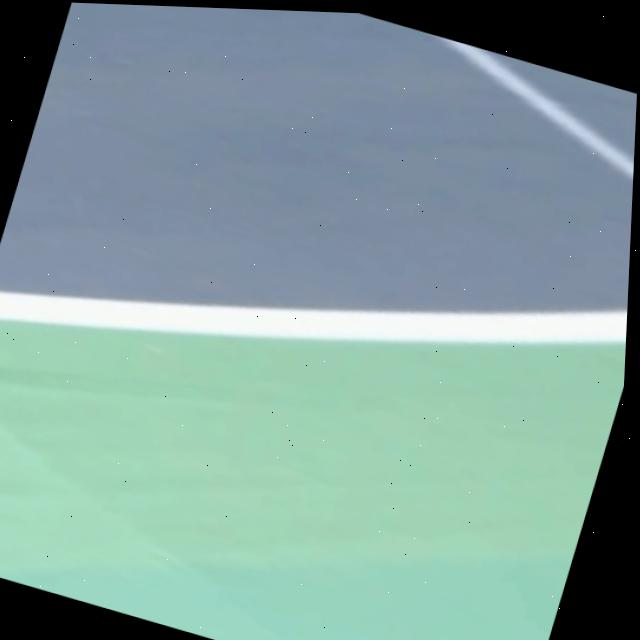right: (0, 291, 627, 343)
